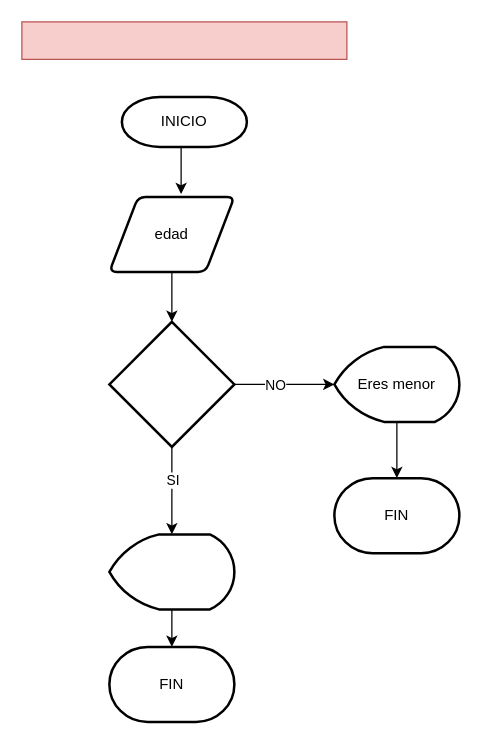
Some shapes in this 483 by 745 pixel diagram are drawn without their labels. The centre of each missing label's shape, as x and y in pixels:
edad>=18: (x=171, y=384)
EJERCICIO: VALIDAR MAYORIA DE EDAD: (x=184, y=40)
Eres mayor: (x=171, y=571)
